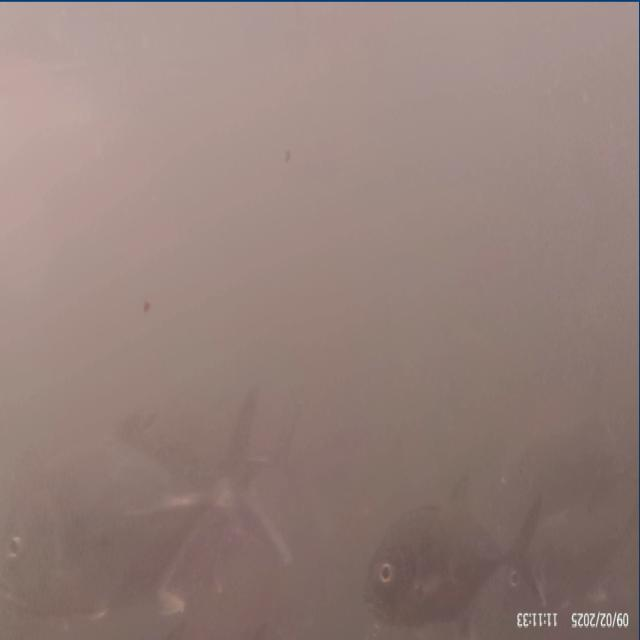ikan: (120, 381, 293, 569), (364, 489, 547, 631)
